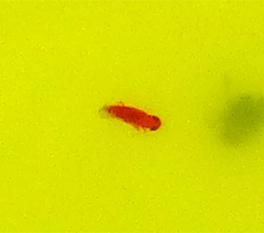Hemiptera: (100, 100, 164, 133)
